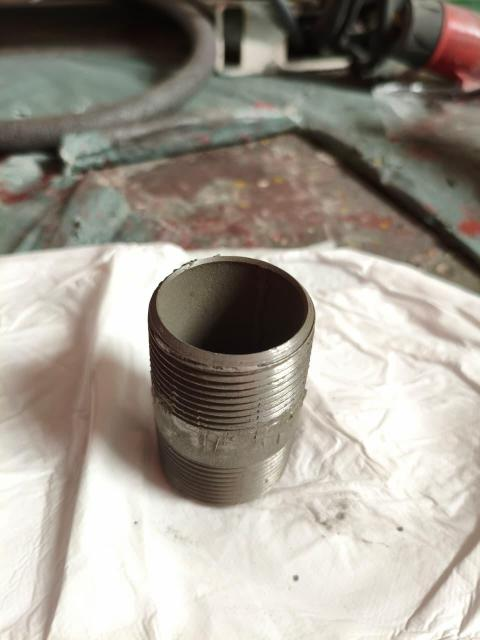Metal: (130, 255, 320, 493)
